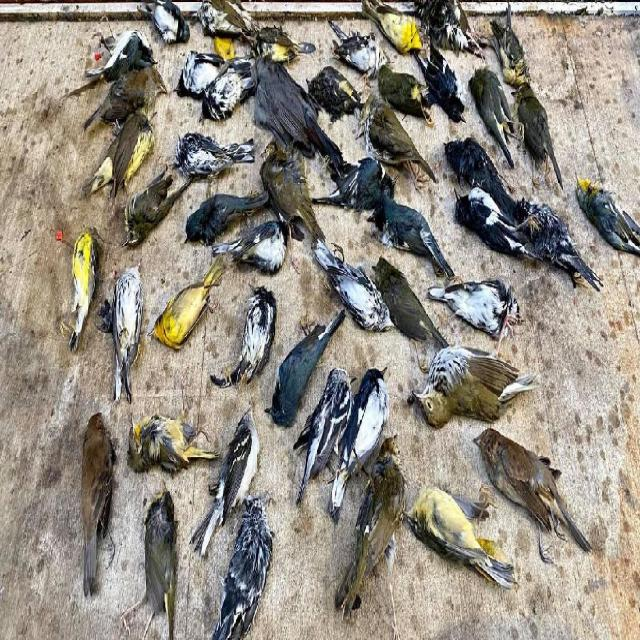Bangkai Burung: (467, 429, 605, 591), (388, 472, 518, 598), (333, 425, 422, 595), (238, 44, 345, 170), (323, 352, 401, 502), (402, 342, 550, 416), (365, 240, 452, 361), (452, 116, 537, 232), (207, 180, 299, 287), (254, 134, 328, 252), (568, 143, 640, 264), (322, 230, 394, 350), (218, 501, 282, 634), (370, 179, 460, 273), (112, 392, 210, 478), (128, 480, 186, 623), (73, 395, 116, 583), (156, 242, 219, 366), (444, 200, 542, 274), (437, 271, 552, 333), (364, 256, 454, 335), (509, 75, 579, 175), (379, 37, 440, 151), (443, 265, 539, 336), (260, 301, 310, 437), (362, 89, 433, 181), (165, 115, 248, 190), (468, 4, 542, 88), (323, 142, 421, 204), (419, 24, 475, 131), (538, 214, 611, 296), (176, 41, 256, 115), (108, 250, 147, 401), (212, 398, 262, 513), (466, 49, 518, 158), (296, 52, 361, 136), (312, 354, 348, 502), (94, 106, 156, 186), (233, 259, 270, 386), (64, 215, 105, 326), (414, 0, 485, 63), (120, 166, 181, 239), (83, 66, 172, 113), (486, 18, 553, 80), (336, 17, 394, 80), (365, 2, 422, 61), (188, 0, 267, 40), (92, 26, 152, 74), (248, 24, 316, 63), (137, 0, 193, 47)
